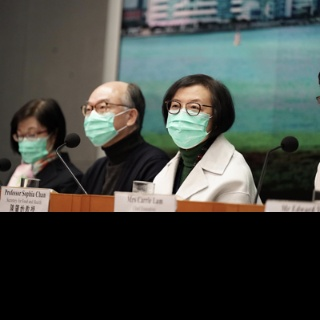with_mask: (164, 93, 213, 148), (81, 96, 127, 146), (13, 124, 53, 164)
